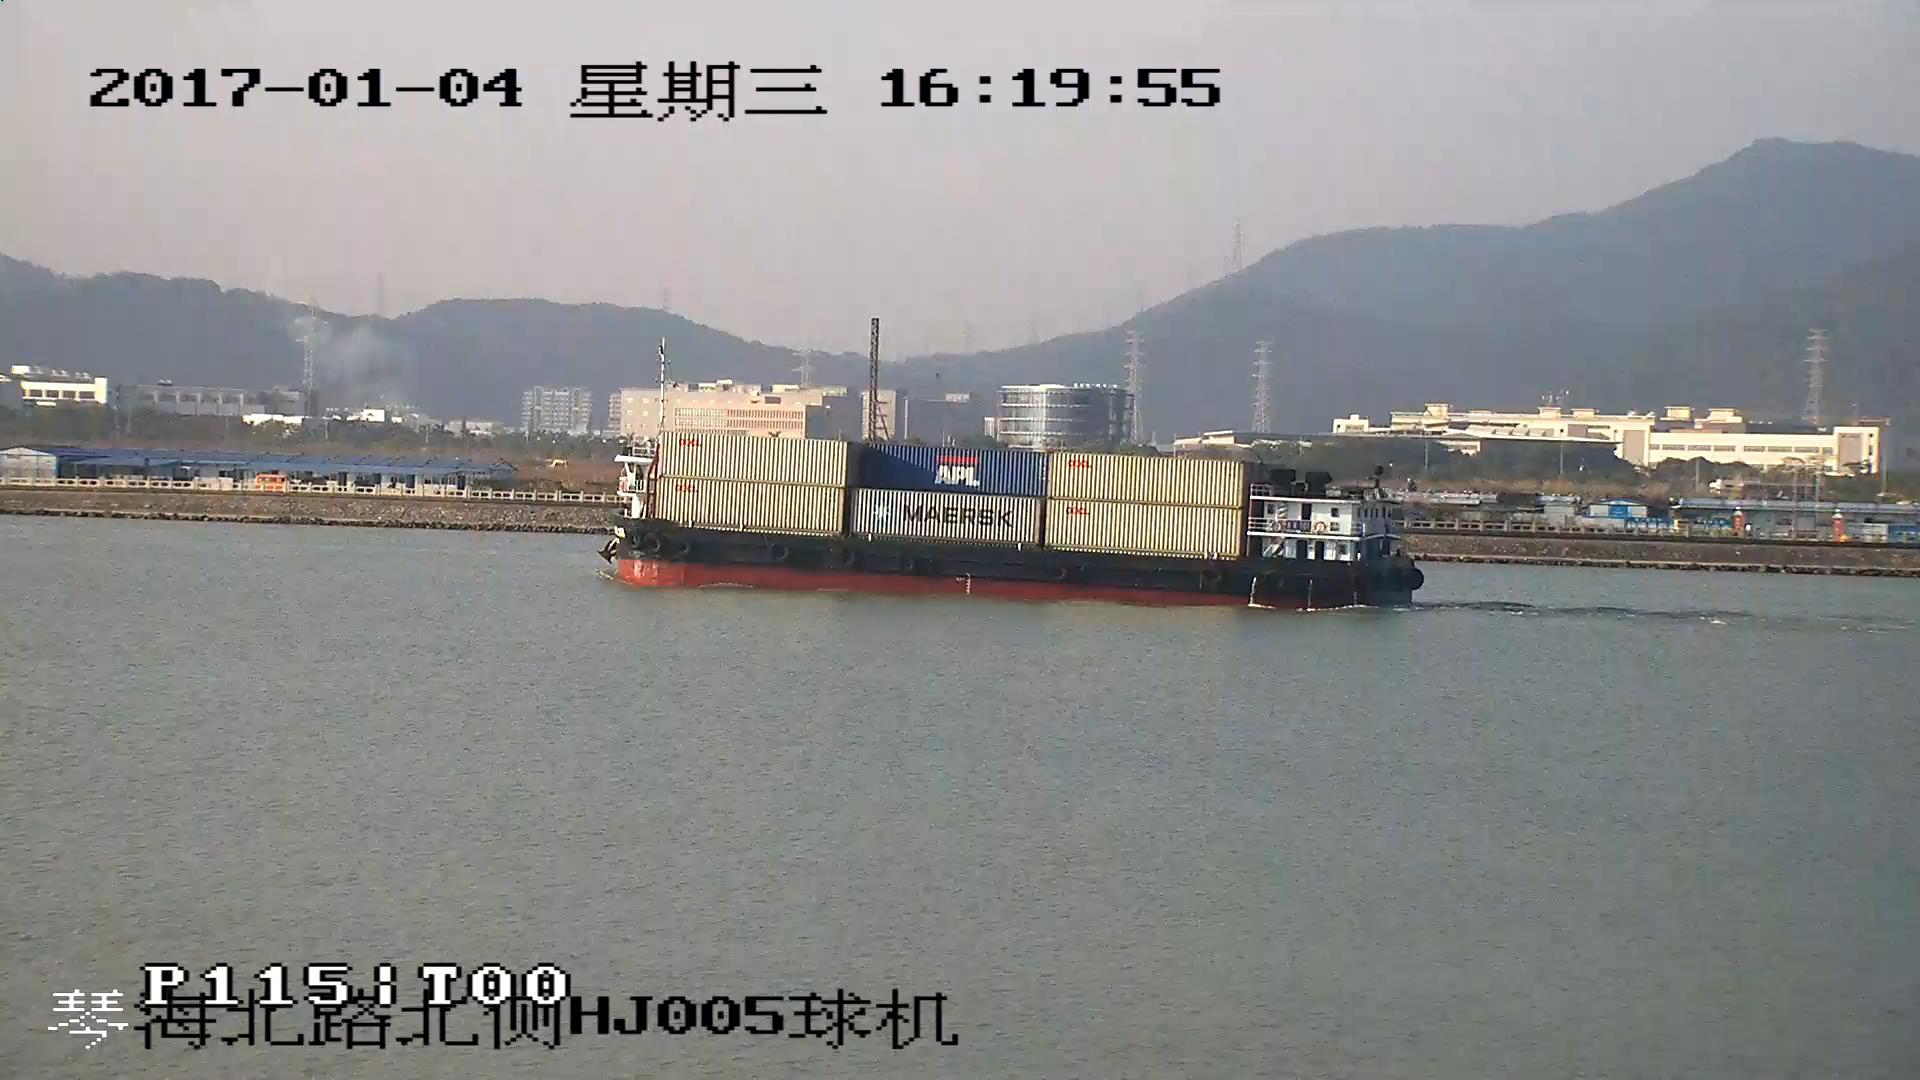Ship: (599, 427, 1427, 608)
